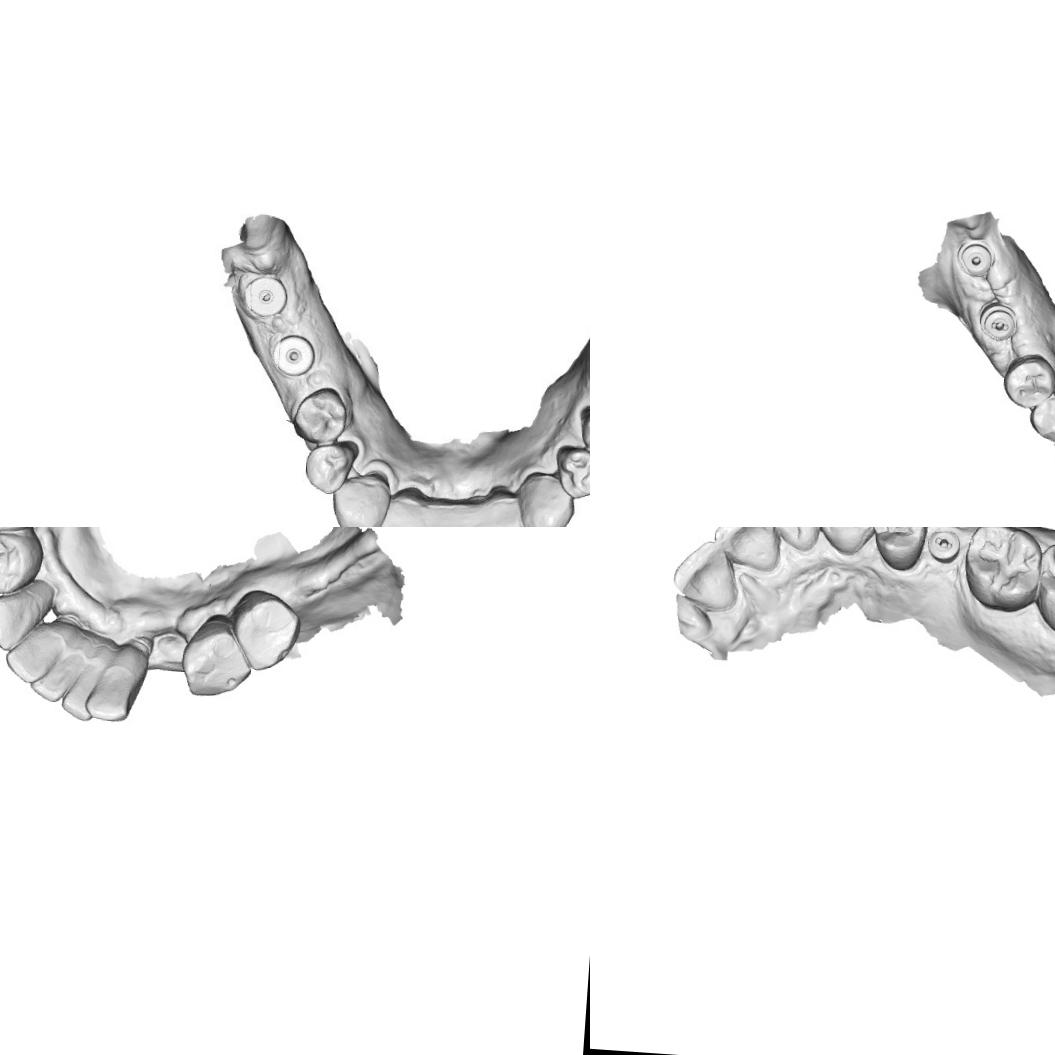canine: (512, 465, 576, 527), (329, 473, 388, 527), (0, 586, 43, 654), (809, 527, 874, 559)
implant: (272, 332, 318, 379), (242, 272, 286, 320), (953, 236, 997, 280)
implant_minus: (975, 297, 1020, 342), (925, 527, 963, 563)
incisor: (668, 534, 742, 614), (2, 622, 66, 686), (26, 642, 89, 706), (80, 658, 142, 723), (708, 527, 784, 574), (60, 652, 109, 724), (380, 485, 428, 527), (759, 527, 821, 553), (485, 494, 524, 527), (455, 498, 491, 527), (420, 497, 454, 527)
molar: (958, 527, 1046, 614), (1030, 536, 1055, 638)
premolar: (225, 585, 303, 674), (178, 615, 256, 700), (290, 381, 349, 452), (1001, 350, 1055, 411), (0, 527, 44, 598), (302, 437, 356, 493), (866, 527, 929, 573), (554, 445, 590, 504), (1025, 384, 1055, 443), (574, 407, 590, 463)
